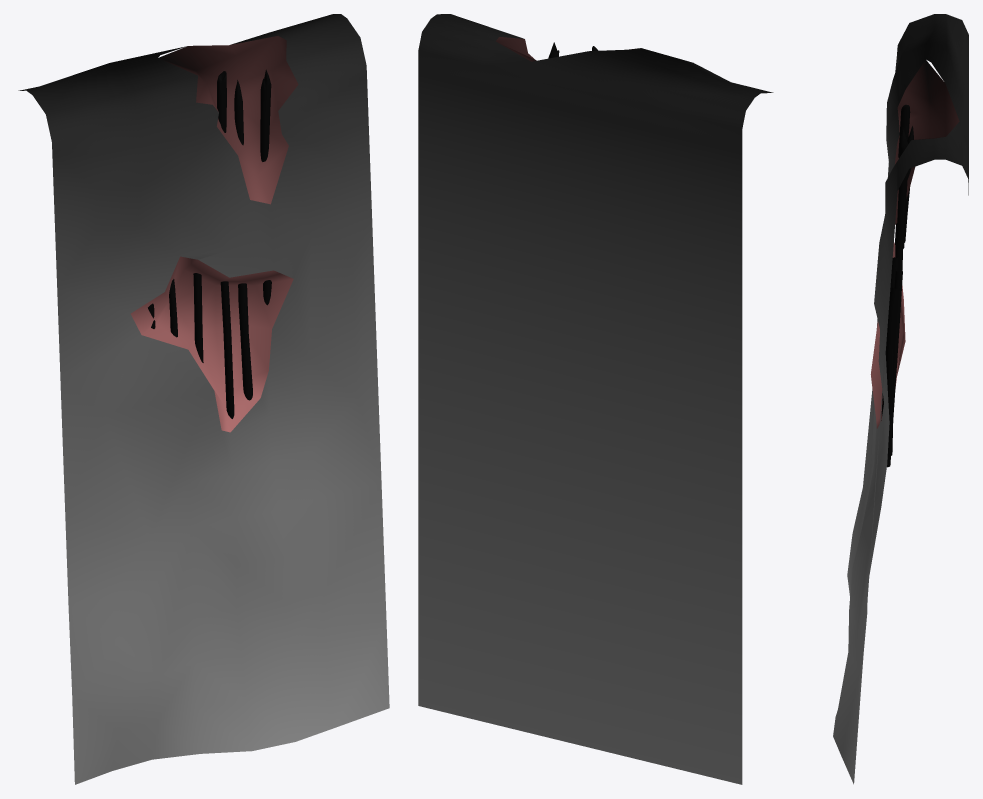
File: wall_clay_short_B.gltf
3 views of the same model, side by side, from view 1: azimuth 30°, elevation 25°; view 2: azimuth 150°, elevation 25°; view 3: azimuth 270°, elevation 25° (orthographic). The views are drawn at different scales.
Parts seen in each view (by area): view 1: wall_clay_short_B; view 2: wall_clay_short_B; view 3: wall_clay_short_B.
Part boxes in pixels (x1=…): wall_clay_short_B: x1=18, y1=14, x2=389, y2=784; wall_clay_short_B: x1=418, y1=14, x2=773, y2=784; wall_clay_short_B: x1=833, y1=14, x2=968, y2=784.
Bounding box in the file's own units: 1.5 × 3.05 × 0.5912.
